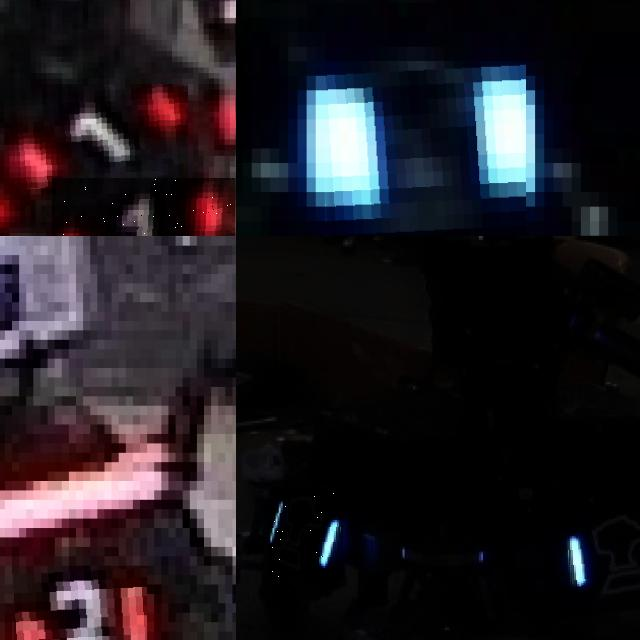Bs: (315, 61, 526, 236), (269, 490, 343, 578), (565, 512, 640, 597)
R1: (9, 84, 188, 189), (51, 178, 235, 236)
R3: (5, 566, 147, 640)
